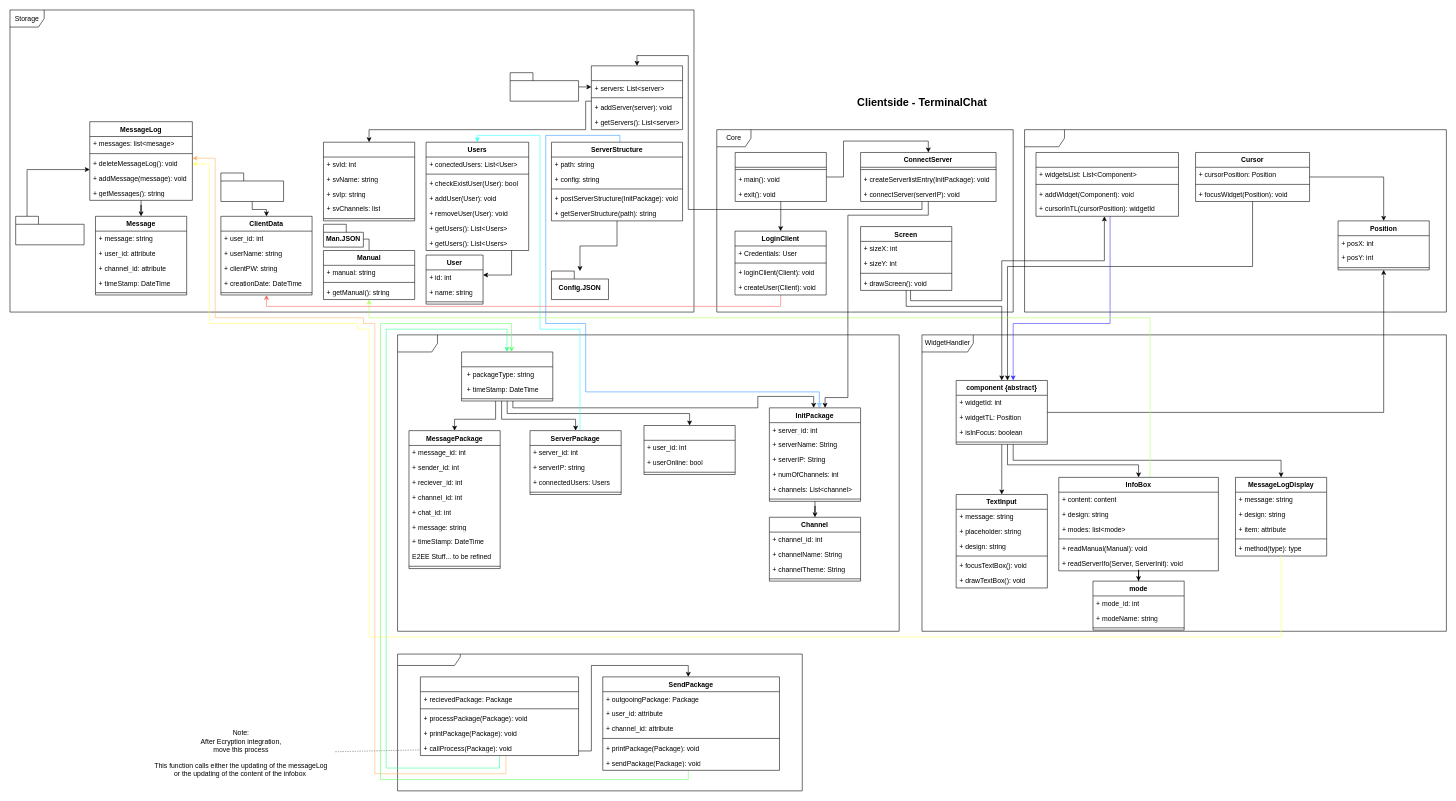
Image size: 1456x801. Some labels were removed from this diagram. Each missing label, with the box of its shape:
ClientData.JSON: (220, 172, 284, 201)
InfoPackage: (643, 425, 735, 475)
MessageLog.JSON: (15, 216, 84, 245)
Navigation: (1024, 129, 1446, 312)
Package handling: (397, 654, 802, 791)
Package {abstract}: (461, 351, 553, 401)
Packaging: (397, 334, 899, 631)
PositionHandler: (1035, 152, 1178, 216)
Program: (735, 152, 826, 201)
RecivePackage: (420, 676, 579, 756)
Server: (323, 142, 415, 221)
ServerList.JSON: (510, 72, 579, 101)
Serves: (591, 65, 683, 130)
